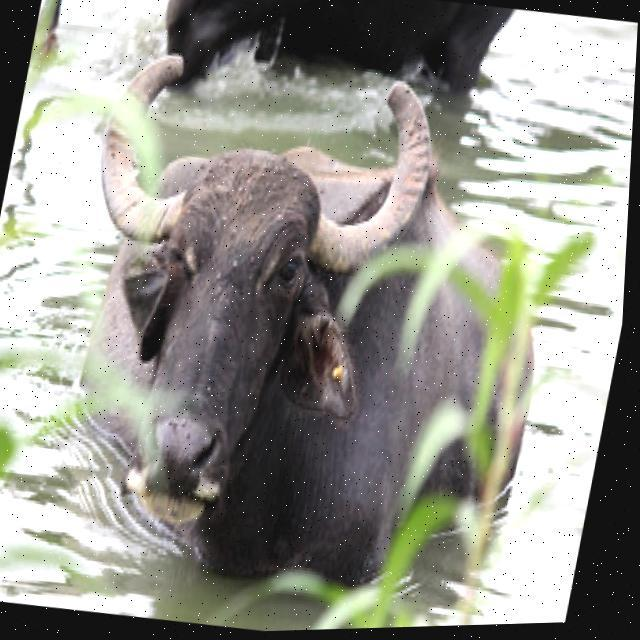Buffalo: (18, 27, 593, 623)
